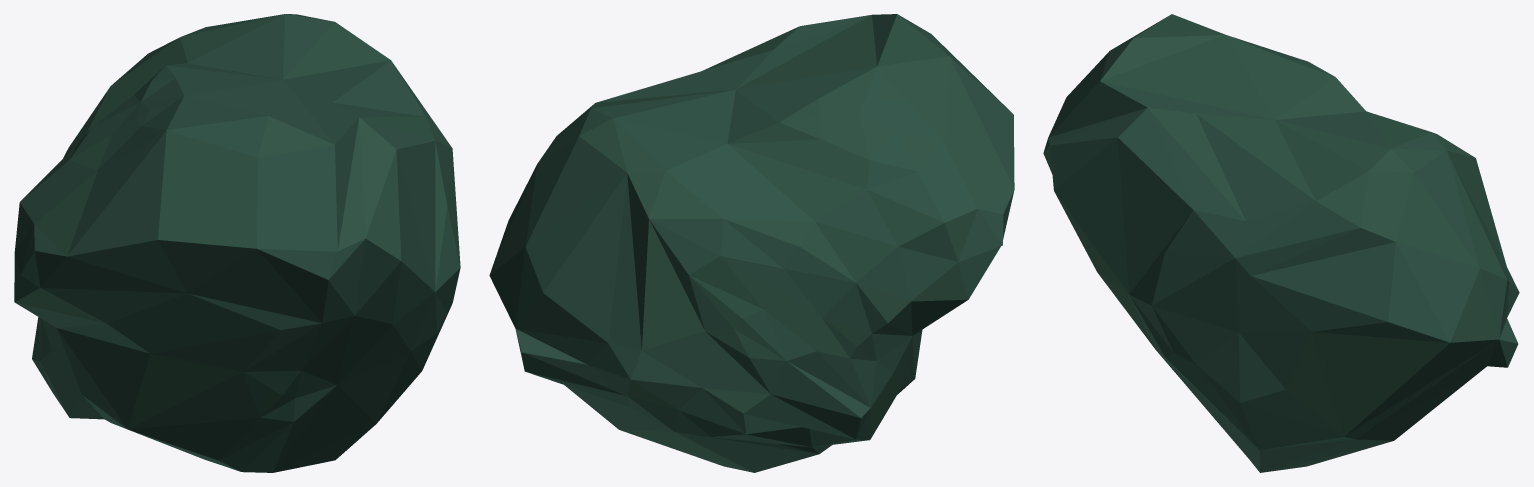
File: SM_large_rock_30.fbx
The picture shows the model from 3 angles, left to right: view 1: azimuth 30°, elevation 25°; view 2: azimuth 150°, elevation 25°; view 3: azimuth 270°, elevation 25°; orthographic projection. The views are drawn at different scales.
Visible parts, largest first — view 1: large_rock_30; view 2: large_rock_30; view 3: large_rock_30.
Part boxes in pixels (x1,y1,x2,y2): large_rock_30: [14, 14, 460, 472]; large_rock_30: [489, 14, 1014, 472]; large_rock_30: [1043, 14, 1519, 472].
Size of the model in its own units: 69.83 by 64.43 by 71.4.
